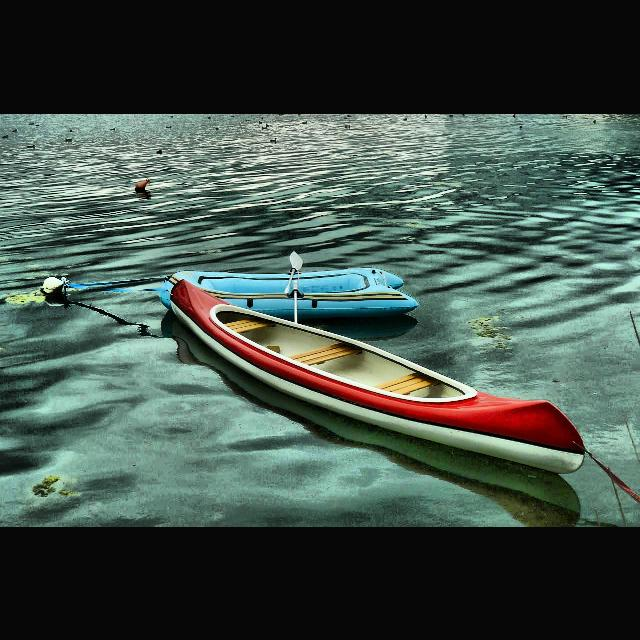buoy: (41, 274, 67, 296), (136, 175, 150, 192)
kayak: (170, 278, 586, 478)
